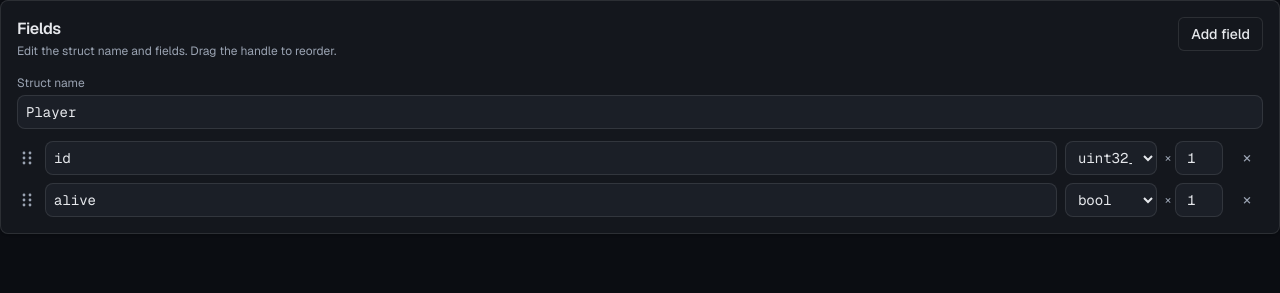
<FieldEditor /> › appends a field when "Add field" is clicked
Step 1. Click the button "Add field" → (1221, 34), box [1178,17,1263,51]
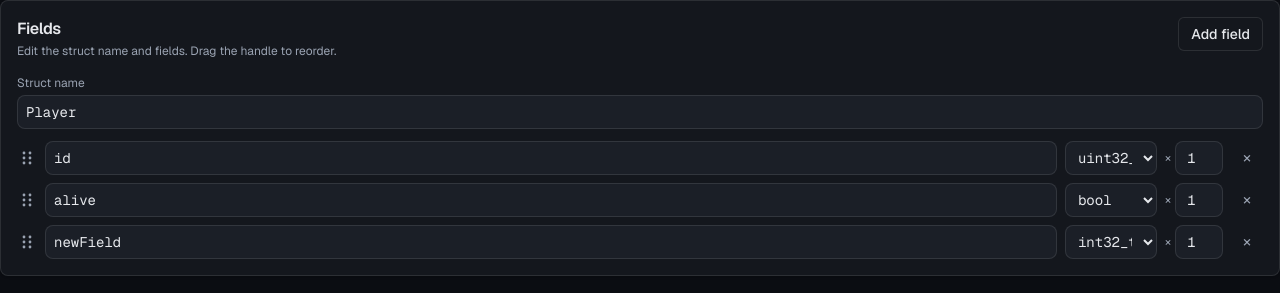
Now the field named "Name for newField" is shown, box [45,225,1057,259]
